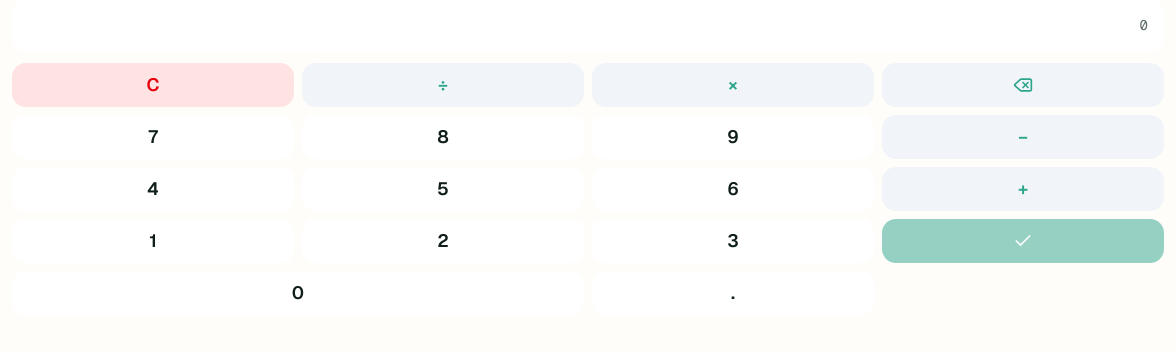
Test: Calculator Component › operations › should calculate addition
Click the button "5" at [443, 189], box [302,167,584,211]
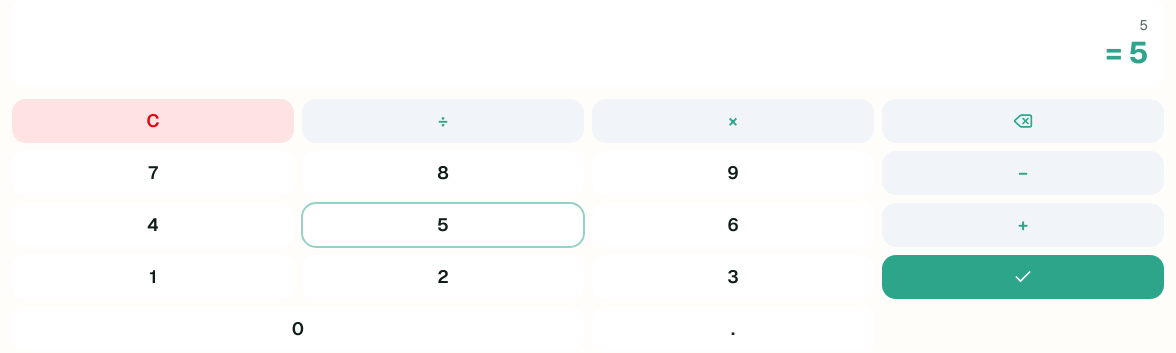
Click the button "+" at [1023, 225], box [882,203,1164,247]
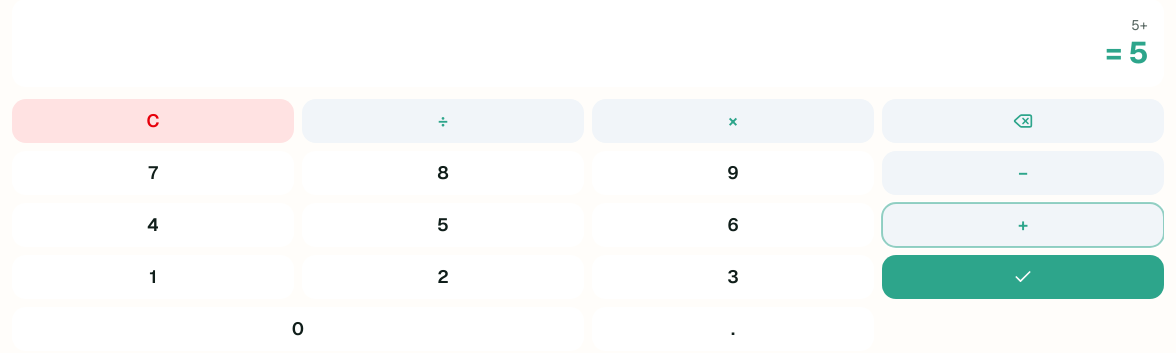
Click the button "3" at [733, 277], box [592,255,874,299]
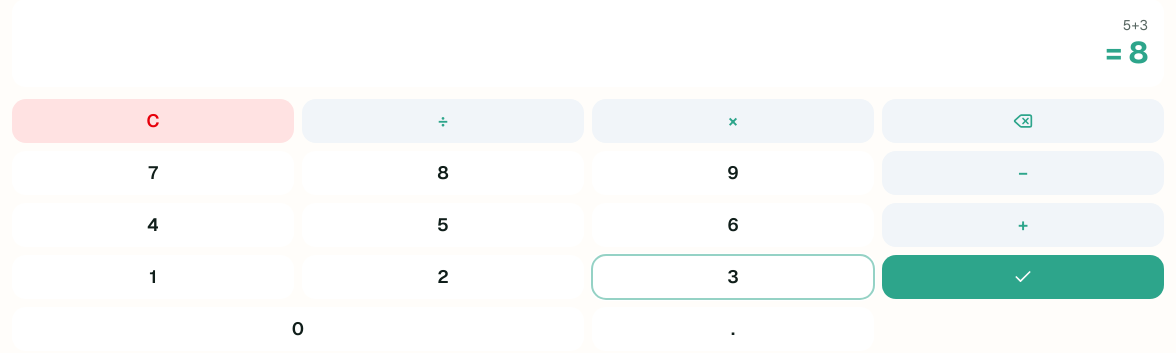
Now the text "5+3" is shown, box [1123,16,1148,34]
Now the text "= 8" is shown, box [1106,33,1148,72]
